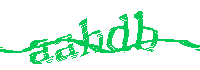a: (53, 34, 80, 61), (28, 38, 54, 64)
b: (133, 10, 157, 53)
d: (107, 13, 129, 52)
h: (78, 19, 104, 56)
